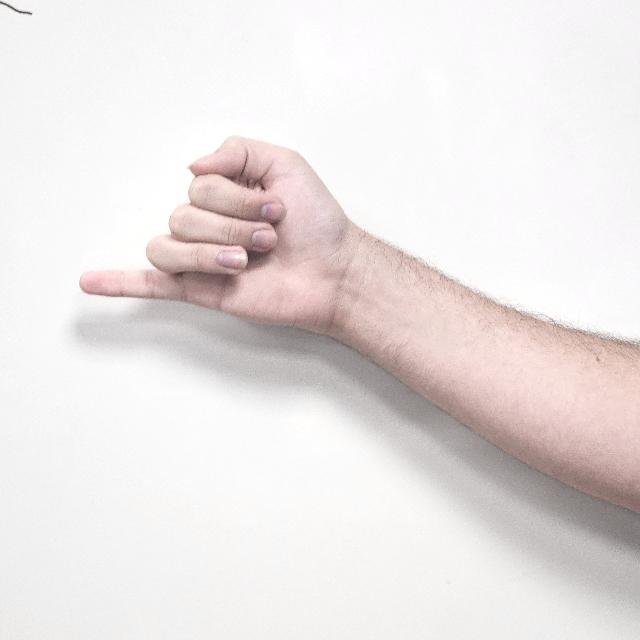Esquerda: (70, 118, 352, 360)
